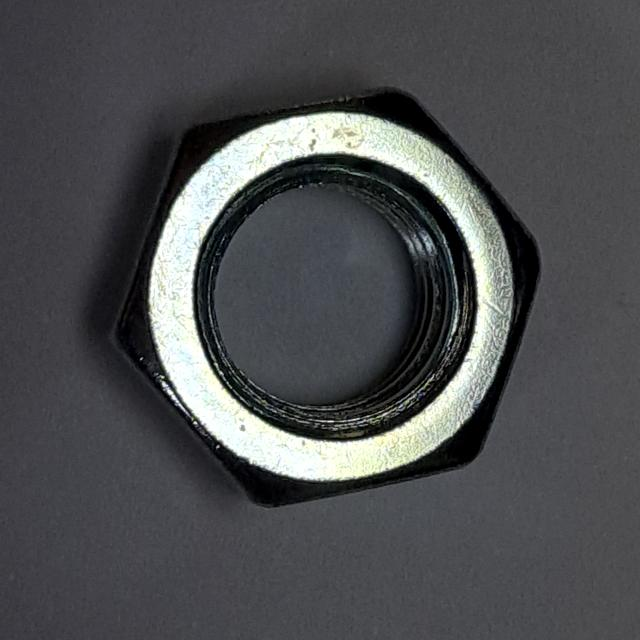Excellent: (87, 77, 553, 519)
